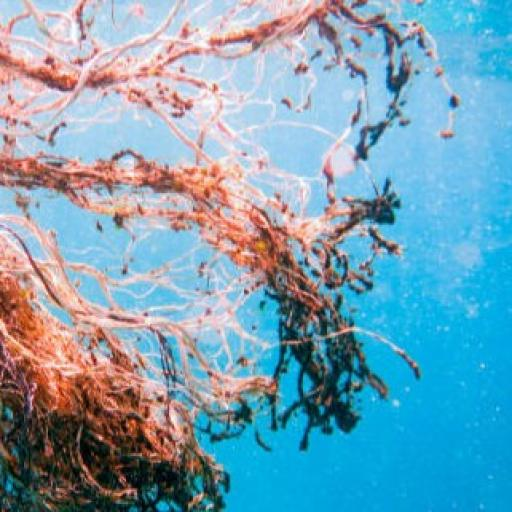net: (4, 4, 465, 512)
